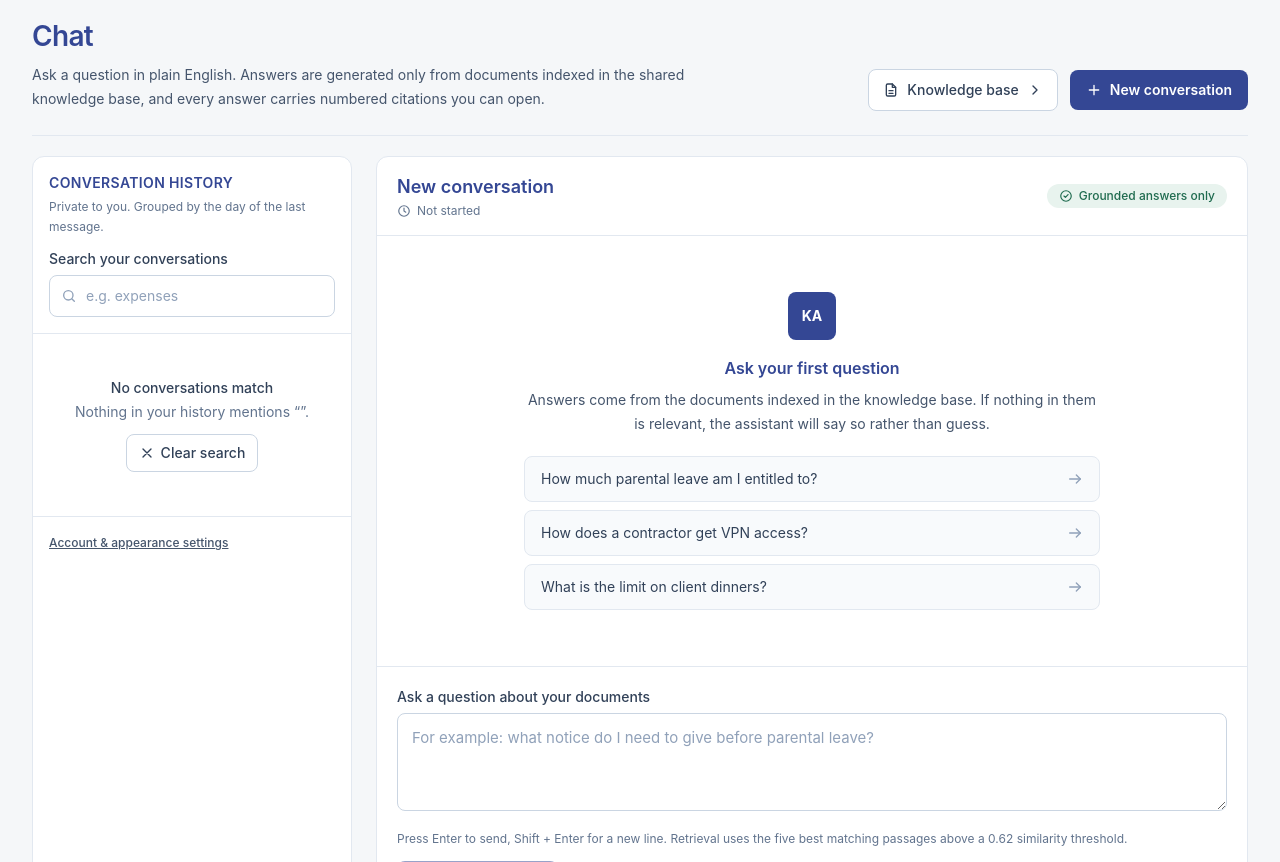
Test case: Chat screen › AC-094/AC-097: an error event with code quota_exhausted renders the server's own text with no upgrade/pay/billing copy, and re-enables input
Type "Are we switching pension providers?" into the text box labelled "Ask a question about your documents" at (812, 762), box [397,713,1227,811]
(page scrolled)
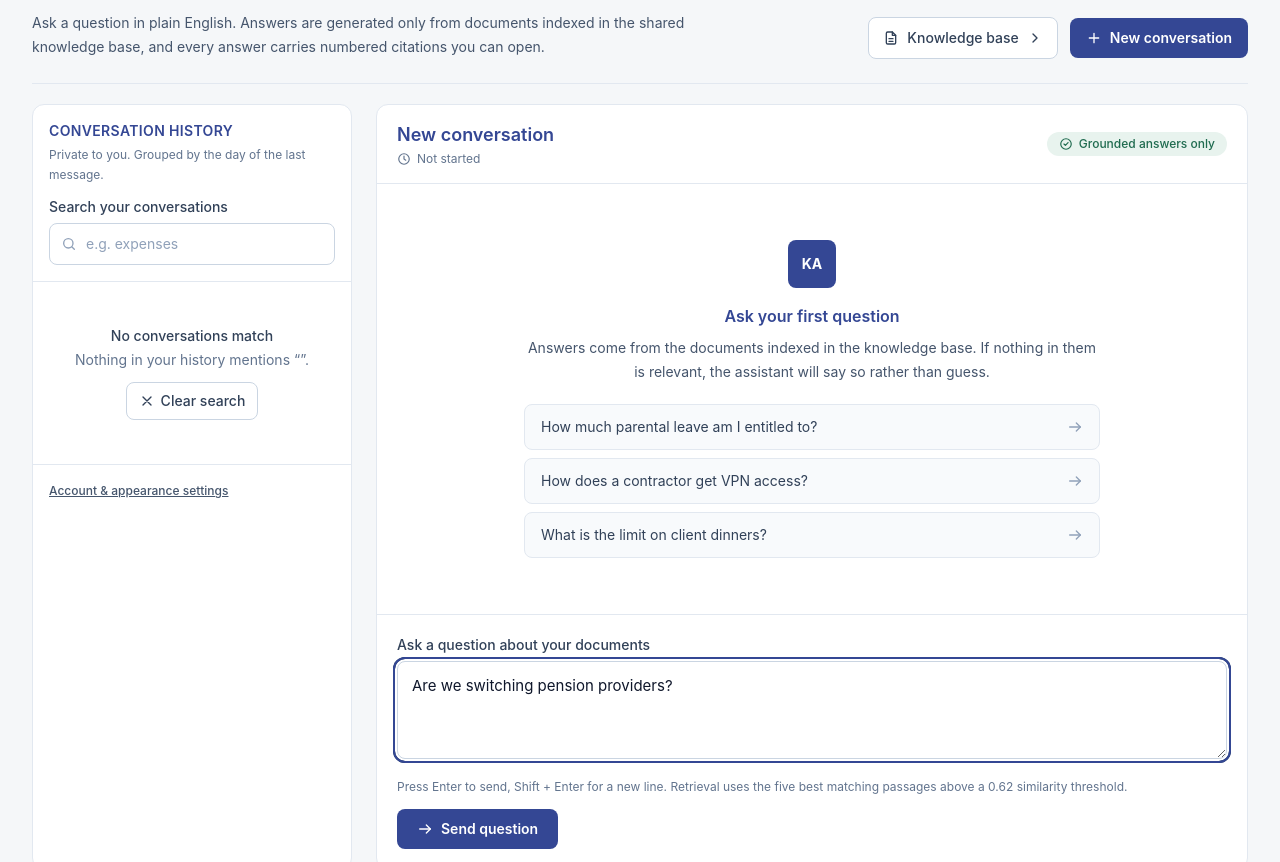
Click the button "Send question" at (478, 829), box [397,809,558,849]
(page scrolled)
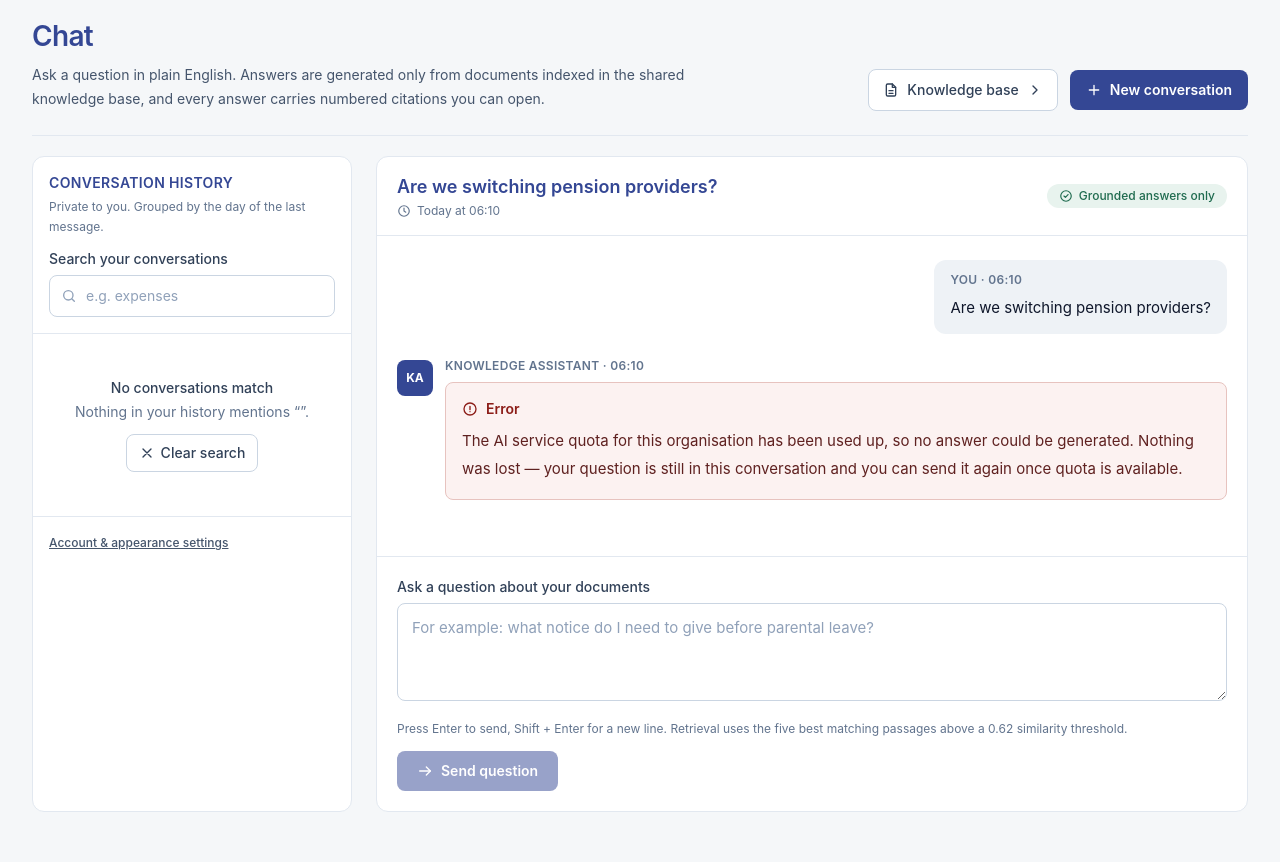
Check: the text box labelled "Ask a question about your documents" is enabled, box [397,603,1227,701]
Check: the text "The AI service quota for this organisation has been used up, so no answer could be generated. Nothing was lost — your qu" is shown, box [462,431,1194,478]
